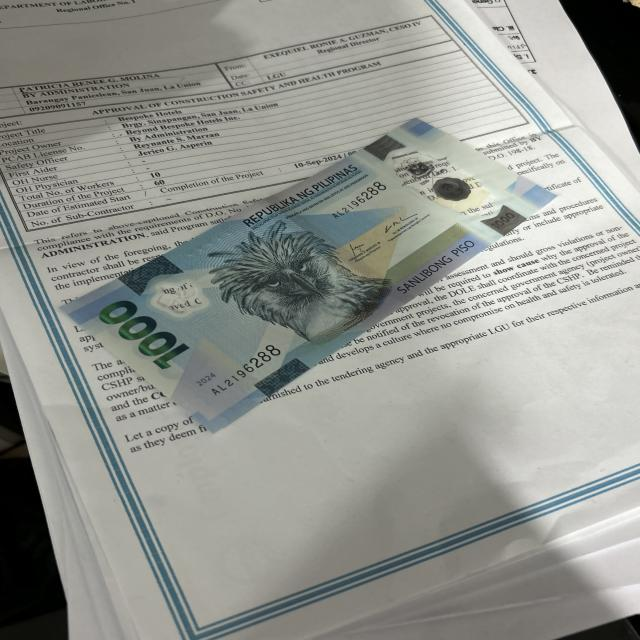clear_window: (376, 147, 502, 221)
eagle: (214, 224, 385, 340)
sampaguita: (154, 280, 207, 316)
serial_number: (195, 341, 284, 402)
